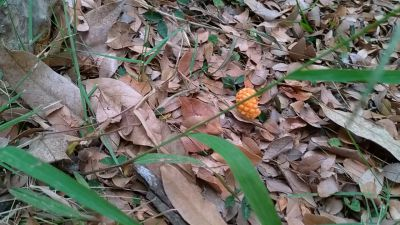eggs: (232, 85, 262, 120)
